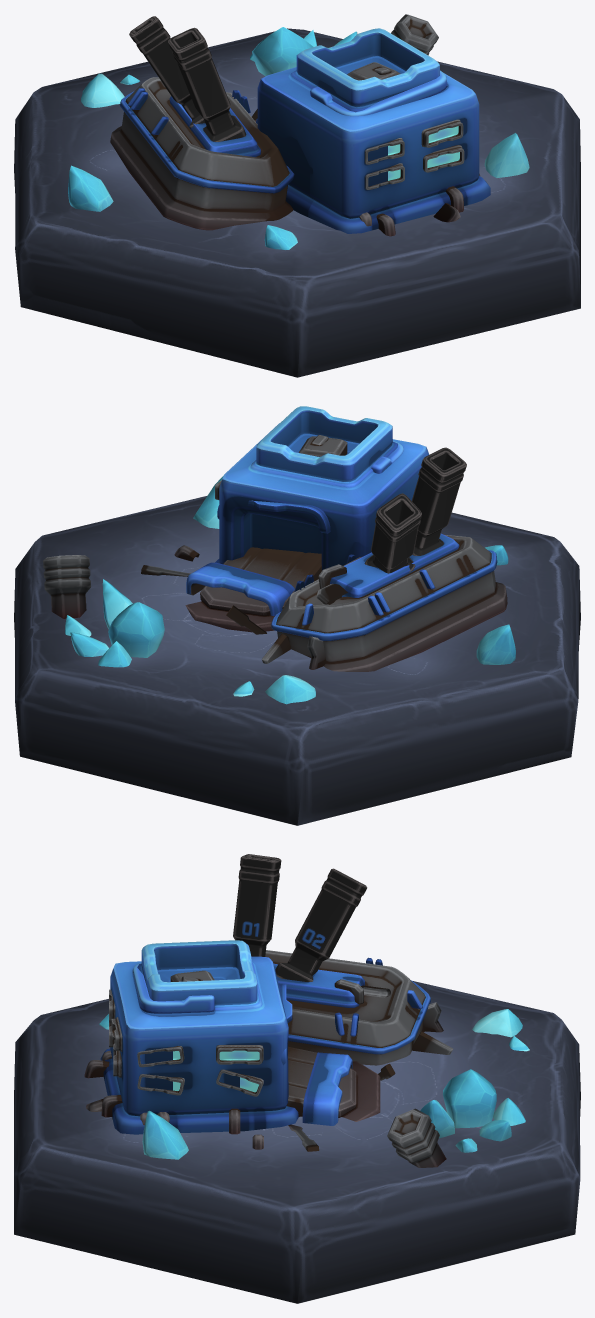
The model's file is CF_lvl1_d.fbx.
3 views of the same model, one above another, from view 1: azimuth 30°, elevation 25°; view 2: azimuth 150°, elevation 25°; view 3: azimuth 270°, elevation 25° (orthographic).
Visible parts, largest first — view 1: factory_level1_dstr; view 2: factory_level1_dstr; view 3: factory_level1_dstr.
Boxes of the visible parts, x1,y1,x2,y2 form: factory_level1_dstr: [14, 14, 580, 377]; factory_level1_dstr: [14, 406, 580, 825]; factory_level1_dstr: [14, 854, 580, 1303].
Size of the model in its own units: 7.45 by 3.18 by 6.51.
